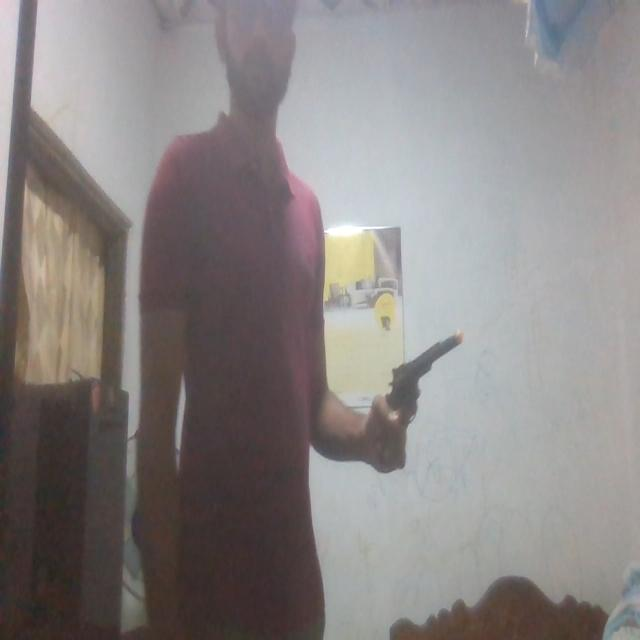Gun_Holder: (371, 326, 475, 467)
Person: (136, 0, 406, 640)
